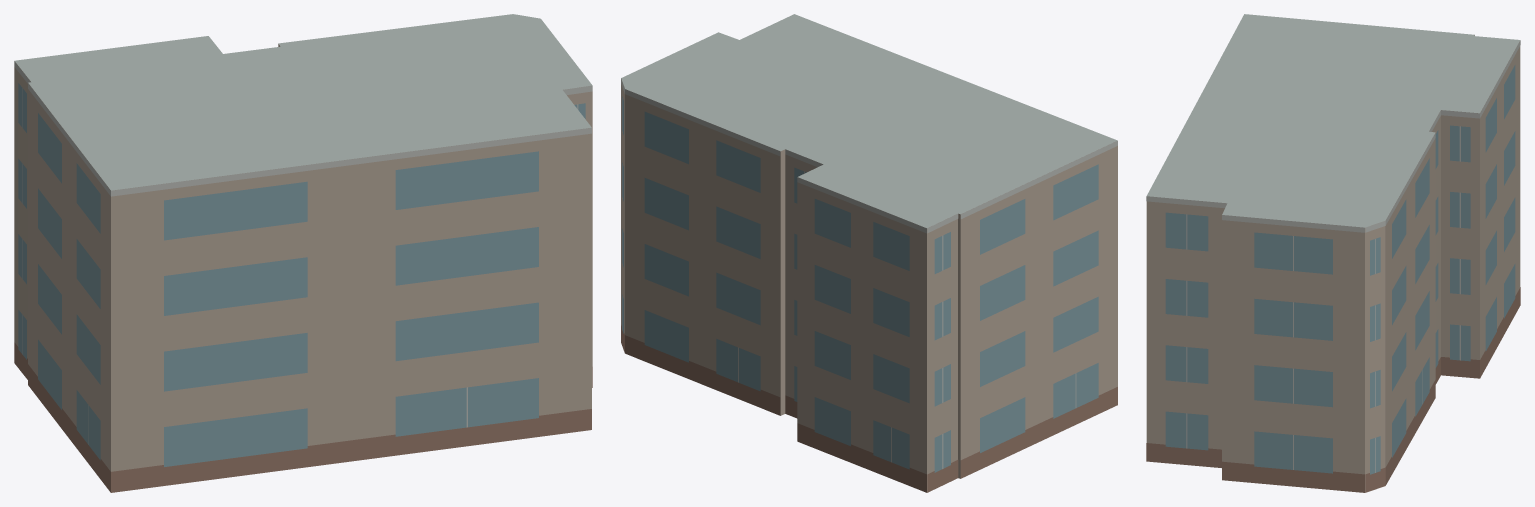
Rendered from survey-upis-32951303.glb.
The picture shows the model from 3 angles, left to right: view 1: azimuth 30°, elevation 25°; view 2: azimuth 150°, elevation 25°; view 3: azimuth 270°, elevation 25°; orthographic projection. The views are drawn at different scales.
Visible parts, largest first — view 1: survey-upis-32951303.tmp; view 2: survey-upis-32951303.tmp; view 3: survey-upis-32951303.tmp.
Boxes of the visible parts, box(x1,y1,x2,y2) form: survey-upis-32951303.tmp: box(14, 14, 592, 492); survey-upis-32951303.tmp: box(621, 14, 1117, 492); survey-upis-32951303.tmp: box(1146, 14, 1520, 492).
Size of the model in its own units: 21.41 by 12.39 by 15.84.
